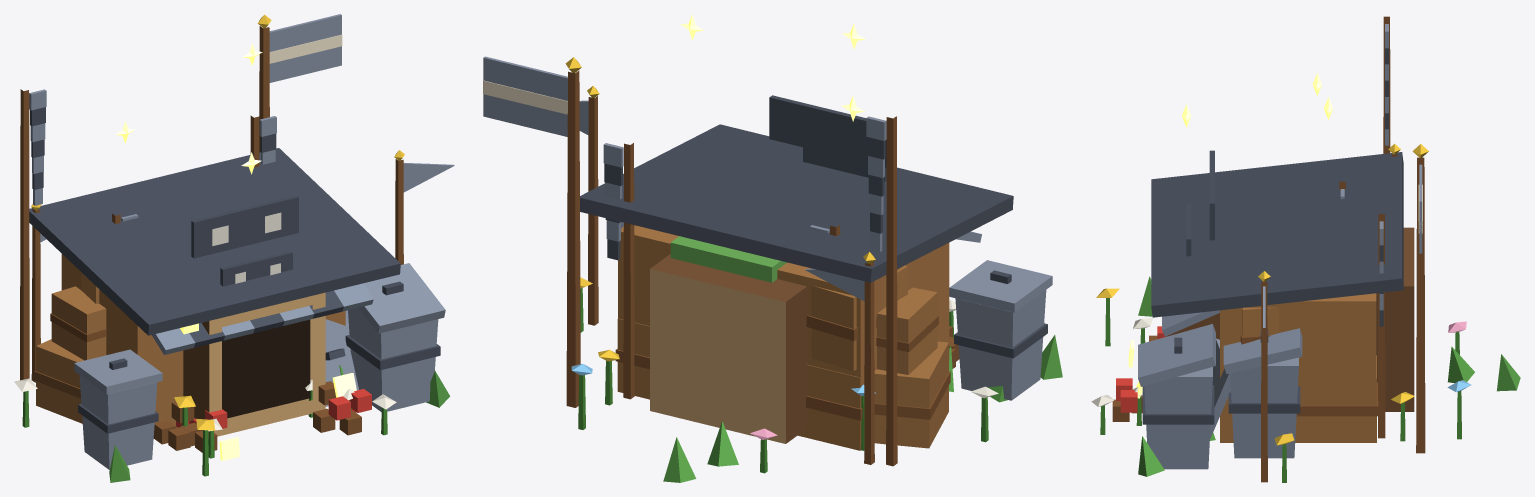
Rendered from raccoon-stash-den-blocky.glb.
The picture shows the model from 3 angles, left to right: view 1: azimuth 30°, elevation 25°; view 2: azimuth 150°, elevation 25°; view 3: azimuth 270°, elevation 25°; orthographic projection. The views are drawn at different scales.
Parts seen in each view (by area): view 1: lv3, lv2, lv1; view 2: lv3, lv2; view 3: lv3, lv2, lv1.
Boxes of the visible parts, <box> form: lv3: <box>14,14,454,482</box>; lv2: <box>31,115,354,458</box>; lv1: <box>112,213,358,446</box>; lv3: <box>483,14,1062,482</box>; lv2: <box>598,143,1007,466</box>; lv3: <box>1091,16,1520,482</box>; lv2: <box>1132,143,1474,458</box>; lv1: <box>1210,181,1345,440</box>.
Size of the model in its own units: 1.91 by 1.4 by 1.65.
